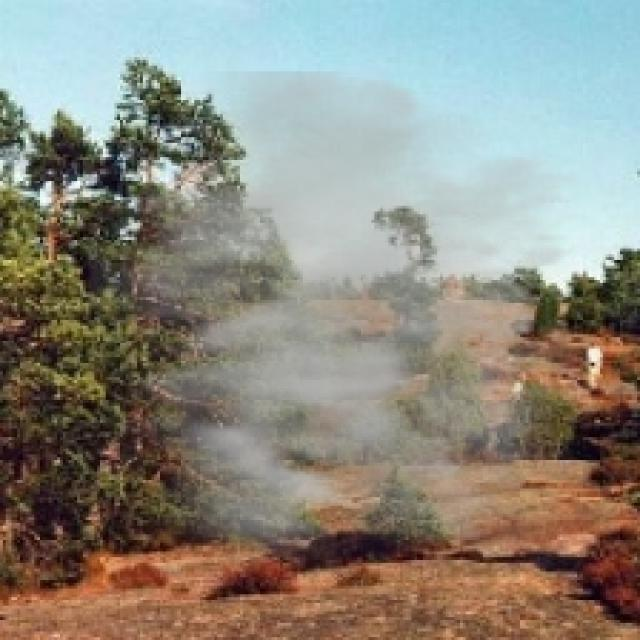Smoke: (89, 71, 632, 588)
